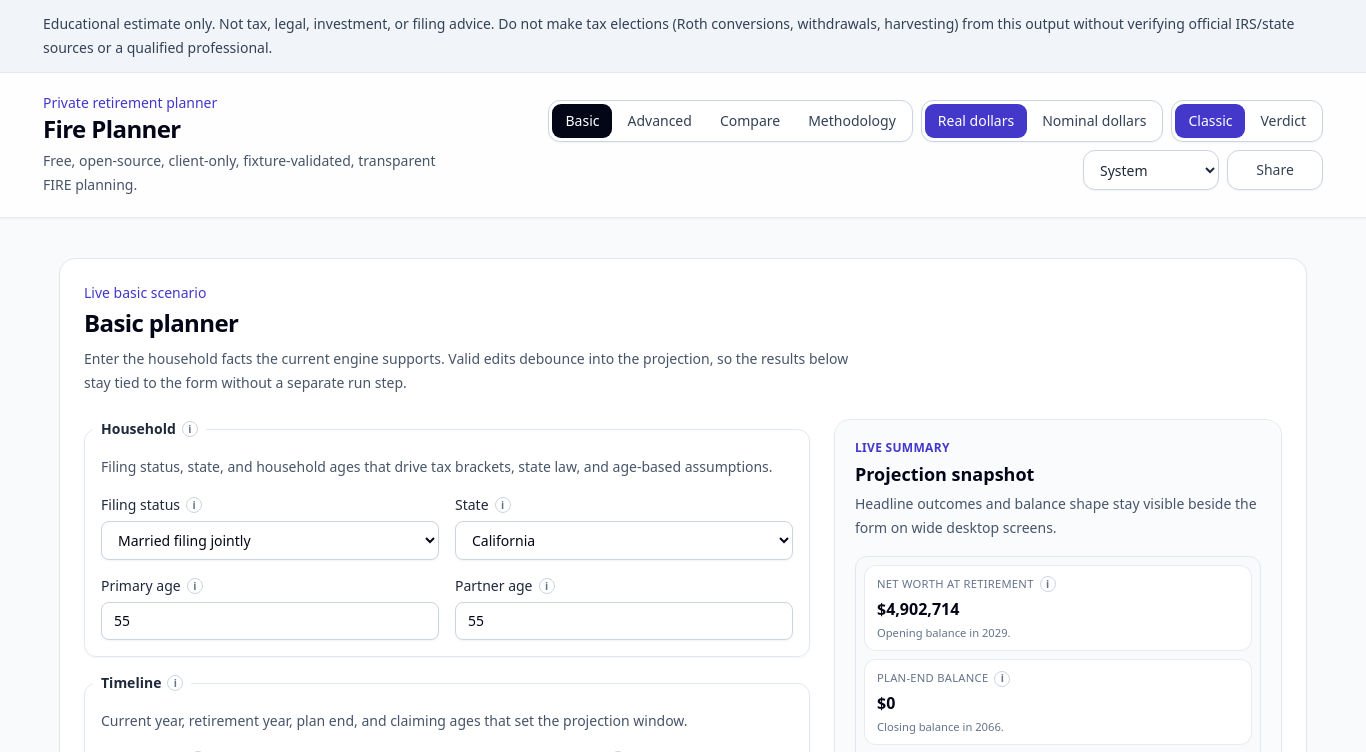
App › launches compare from the advanced scenario manager
The width and height of the screenshot is (1366, 752).
Click the button "Advanced".
click(660, 121)  # box [616,105,704,137]
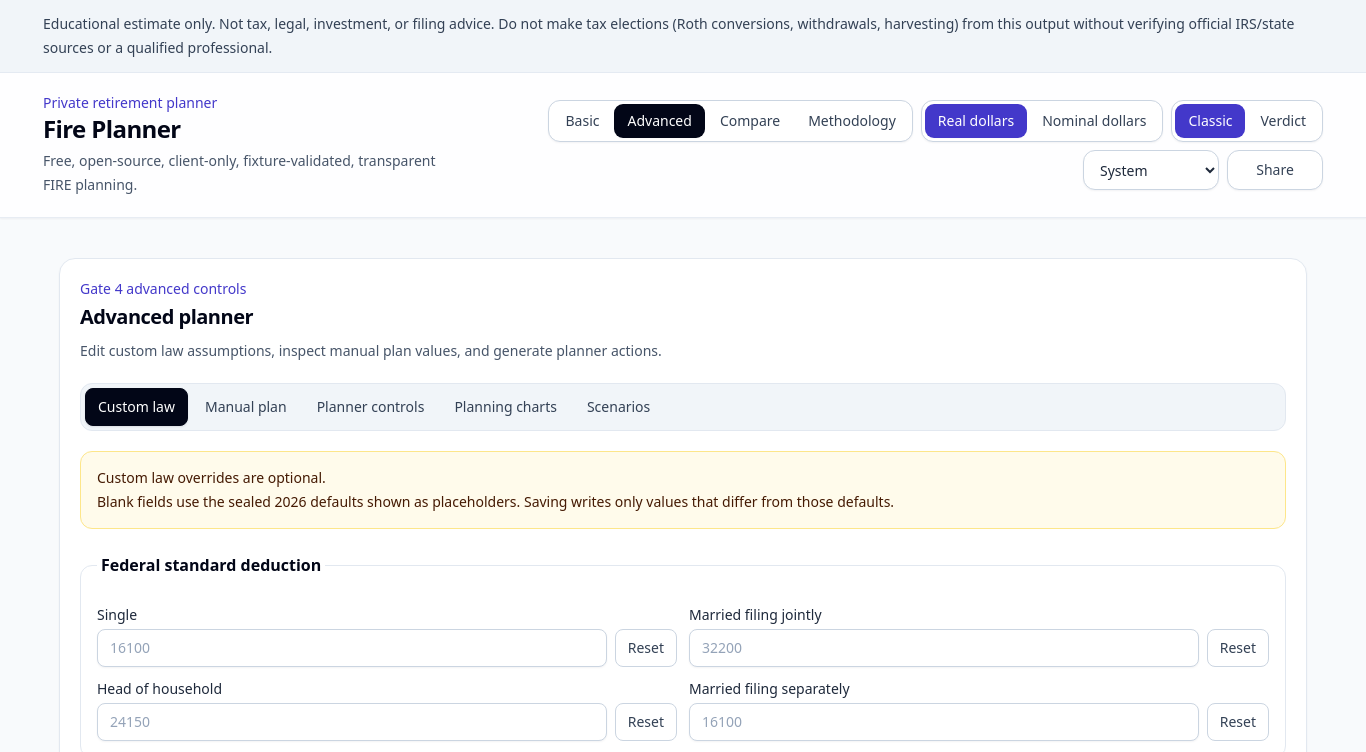
Click the tab "Scenarios".
click(619, 407)  # box [574,388,663,426]
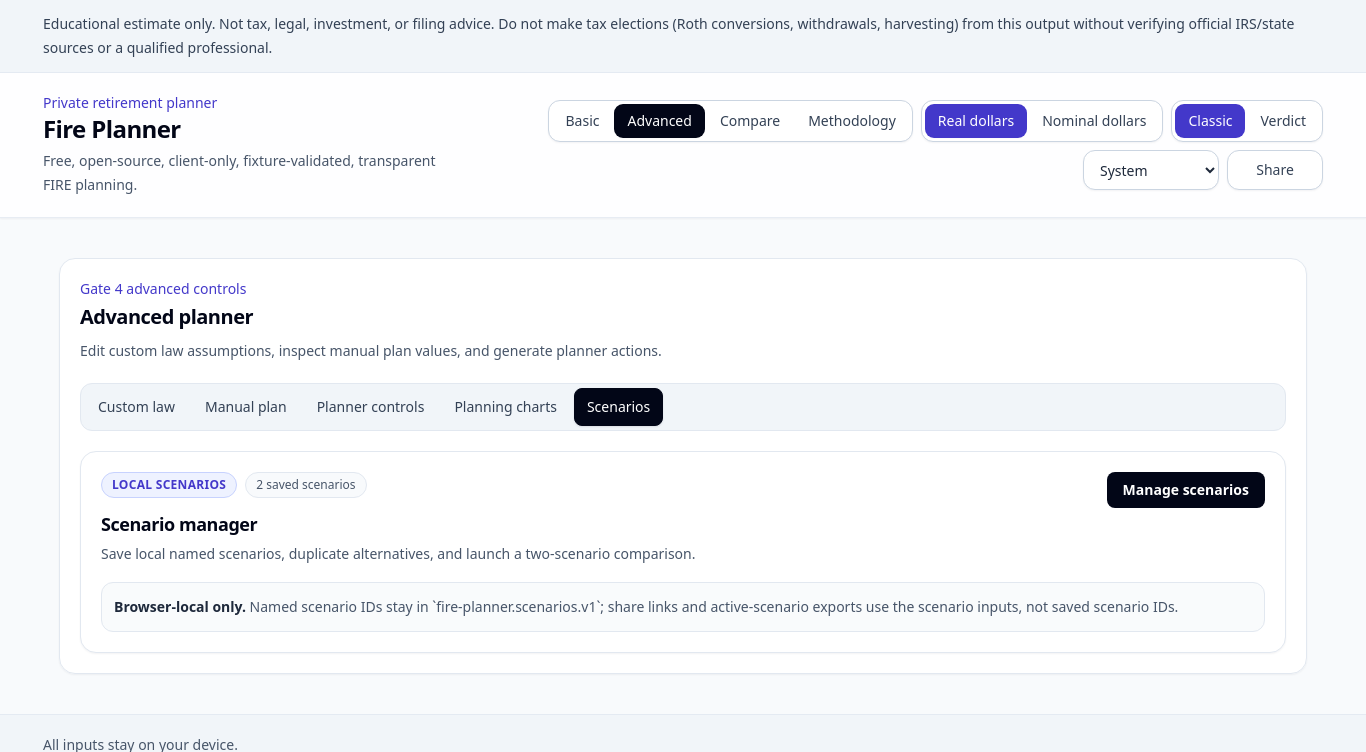
Click the button "Manage scenarios".
click(1186, 490)  # box [1107,472,1265,508]
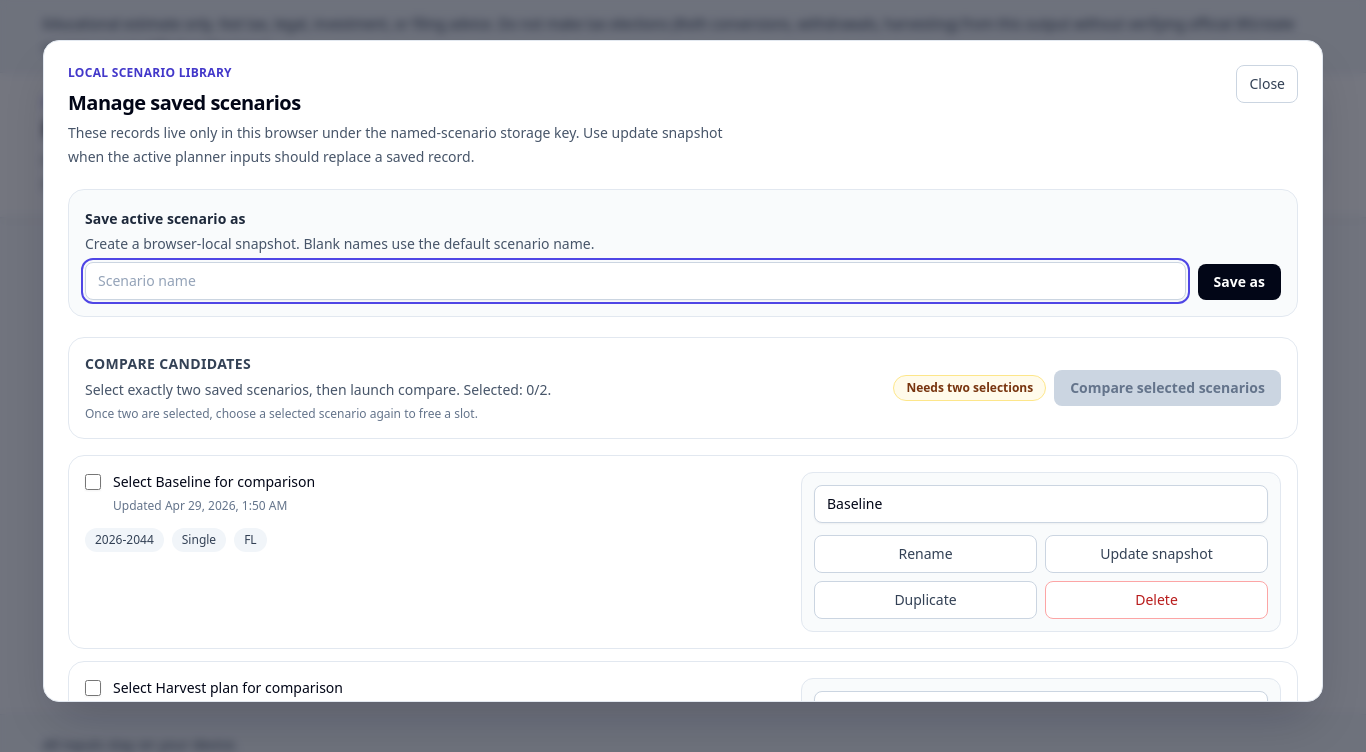
Click the checkbox labelled "Select Baseline for comparison".
click(93, 482)  # box [85,474,101,490]
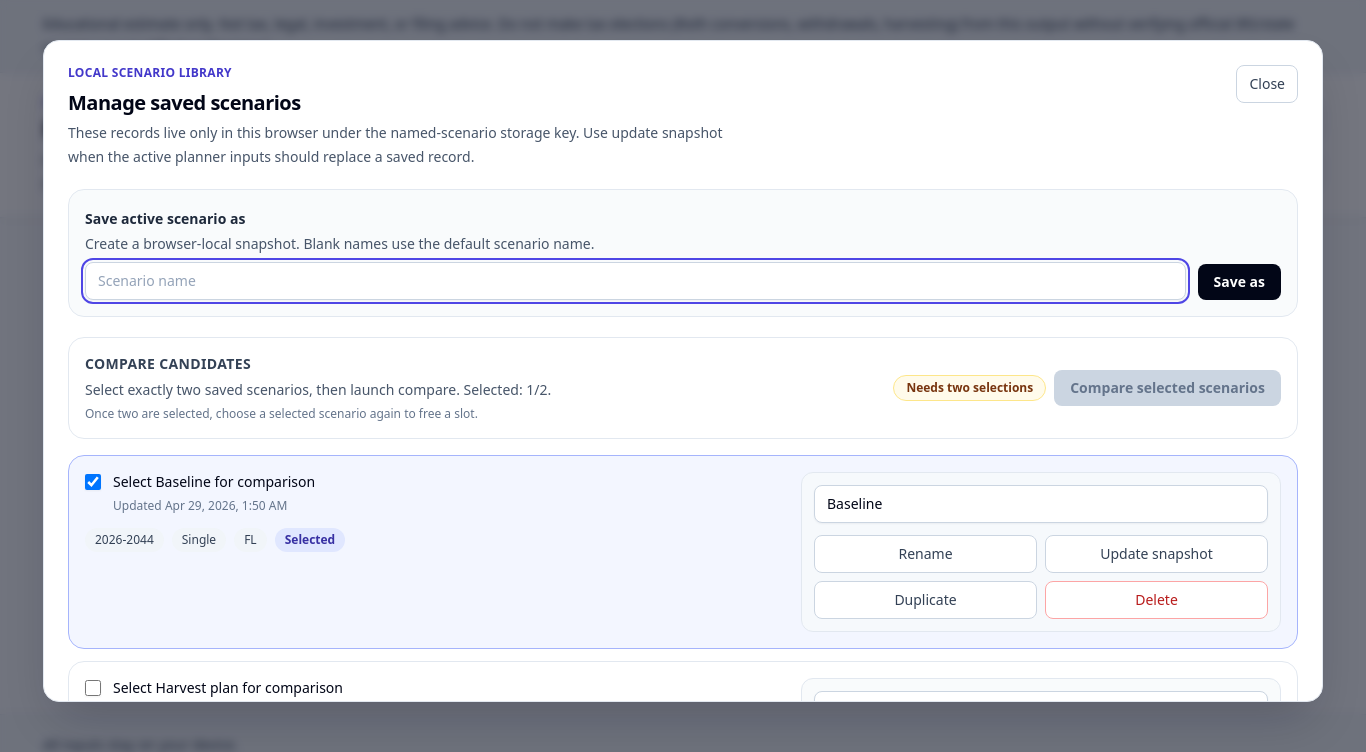
Click the checkbox labelled "Select Harvest plan for comparison".
click(93, 688)  # box [85,680,101,696]
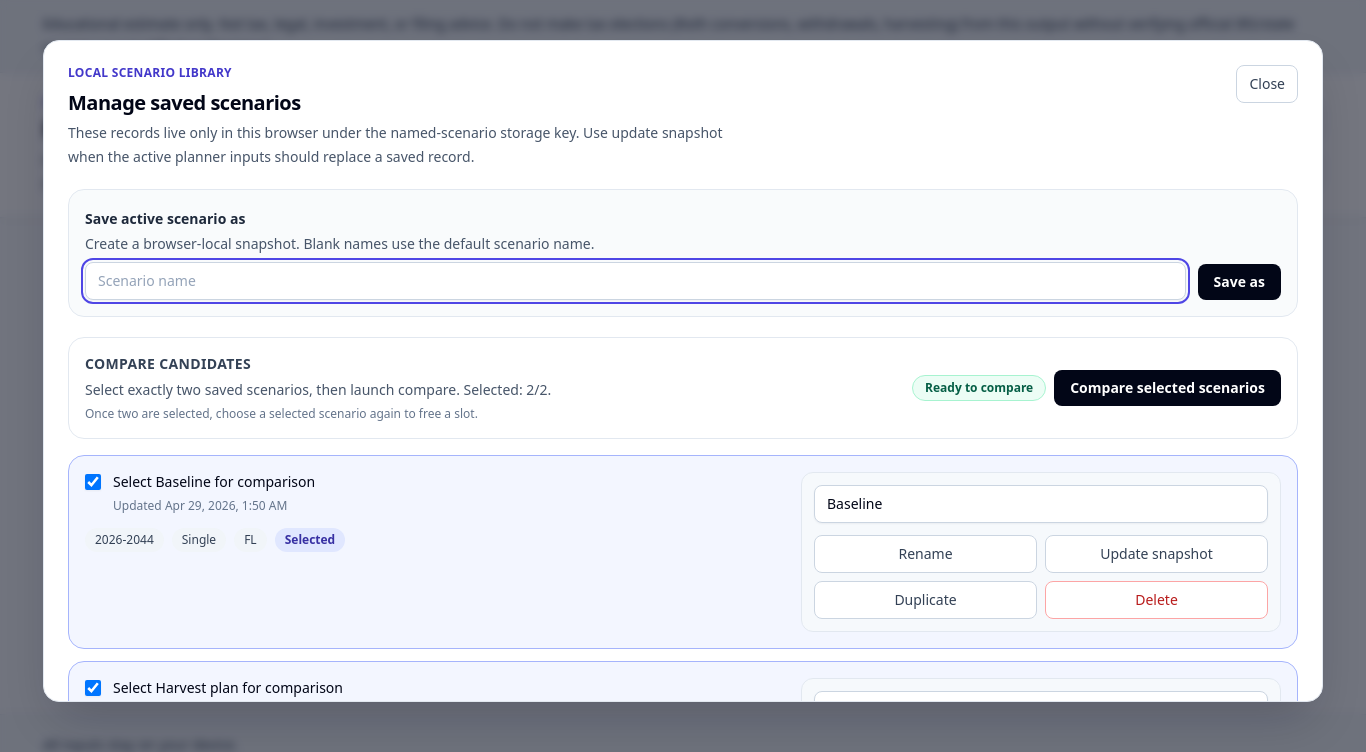
Click the button "Compare selected scenarios".
click(1168, 388)  # box [1054,370,1281,406]
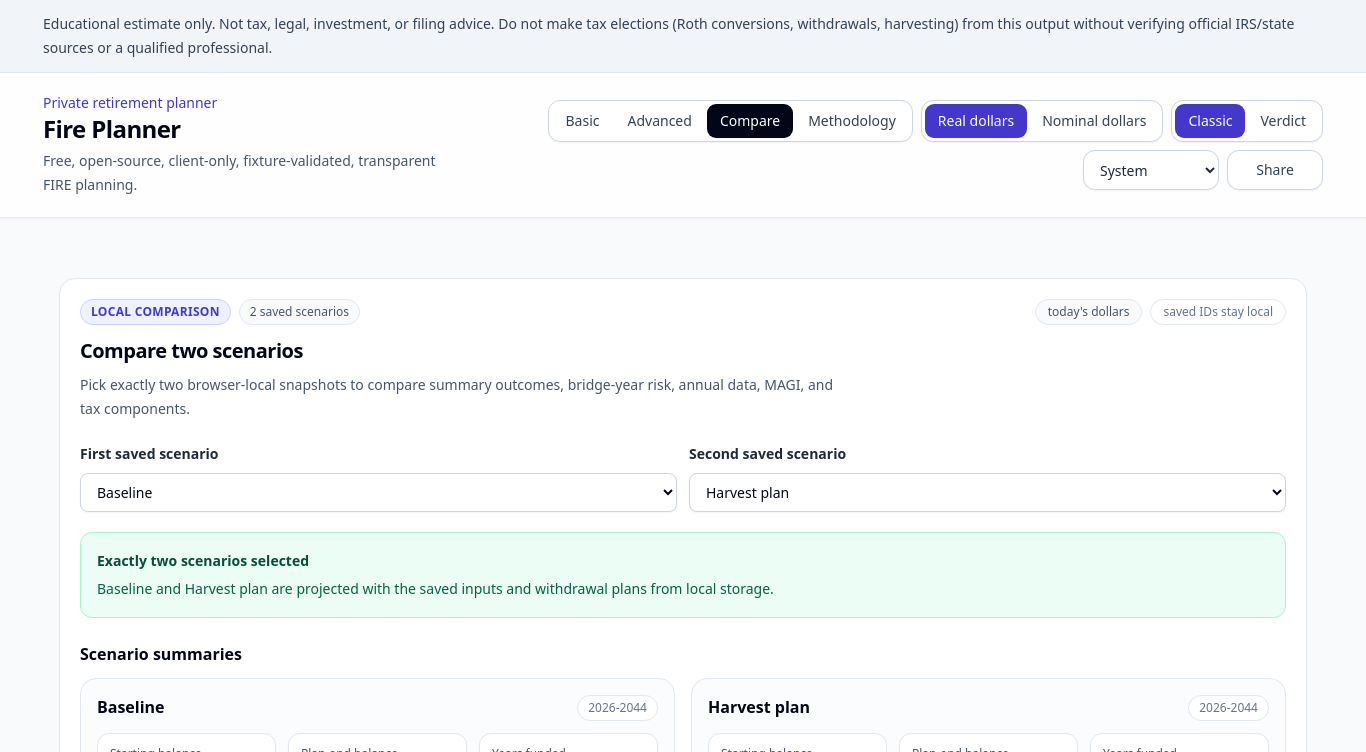
Result: the heading "Compare two scenarios" is shown at [80,337,303,364]
Result: the heading "Advanced planner" is gone
